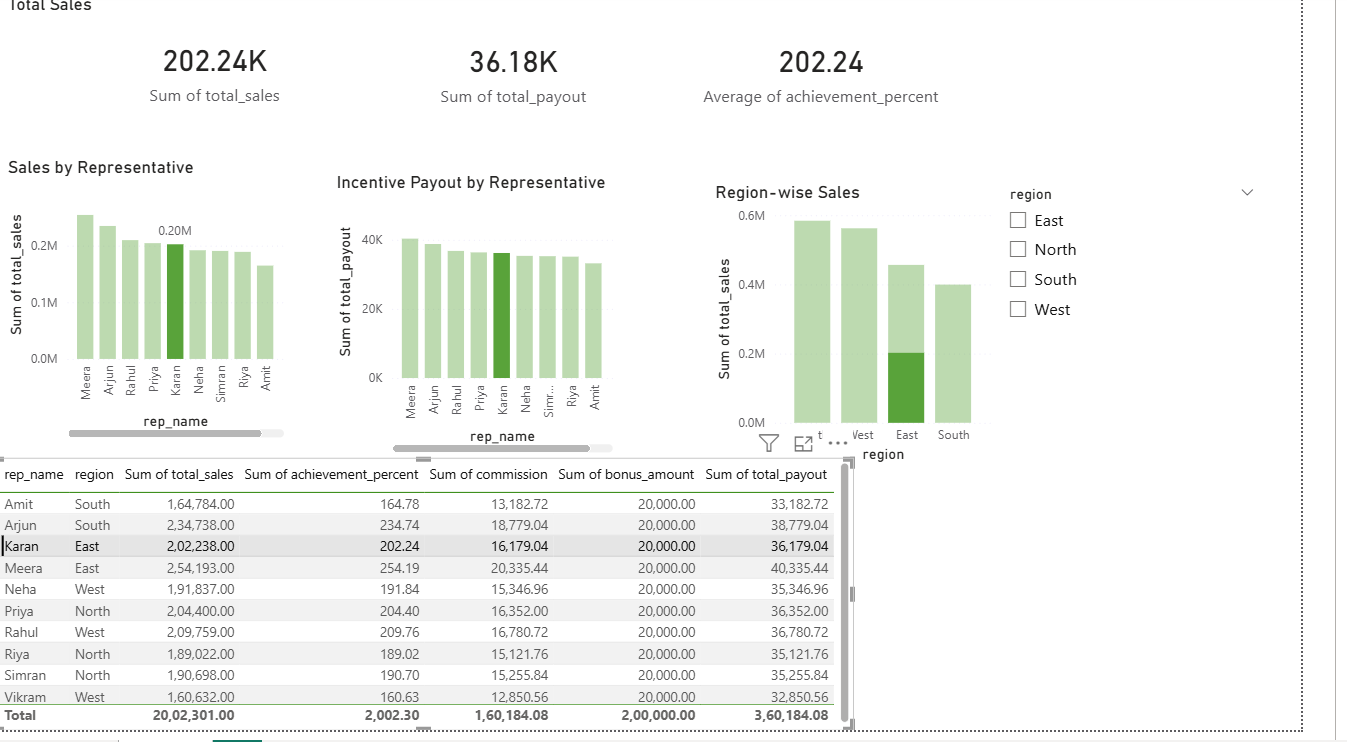

Layout of this report page (visuals, bound fields, positions):
{"tool":"powerbi","page":{"name":"Page 1","canvas":[1280,720],"ordinal":0},"visuals":[{"type":"card","title":"Total Sales","fields":{"Values":["Sum(compensation_system final_compensation_report.total_sales)"]},"box":[9.8,0,414.5,129.6],"z":0},{"type":"card","fields":{"Values":["Sum(compensation_system final_compensation_report.total_payout)"]},"box":[379.1,0,260.5,150.4],"z":1000},{"type":"card","fields":{"Values":["Avg(compensation_system final_compensation_report.achievement_percent)"]},"box":[670.1,0,280,150.4],"z":2000},{"type":"clusteredColumnChart","title":"Sales by Representative","fields":{"Category":["compensation_system final_compensation_report.rep_name"],"Y":["Sum(compensation_system final_compensation_report.total_sales)"]},"box":[9.8,159,280,280],"z":3000},{"type":"clusteredColumnChart","title":"Incentive Payout by Representative","fields":{"Category":["compensation_system final_compensation_report.rep_name"],"Y":["Sum(compensation_system final_compensation_report.total_payout)"]},"box":[331.4,173.6,280,280],"z":4000},{"type":"clusteredColumnChart","title":"Region-wise Sales","fields":{"Category":["compensation_system final_compensation_report.region"],"Y":["Sum(compensation_system final_compensation_report.total_sales)"]},"box":[701.9,183.4,280,280],"z":5000},{"type":"tableEx","fields":{"Values":["compensation_system final_compensation_report.rep_name","compensation_system final_compensation_report.region","Sum(compensation_system final_compensation_report.total_sales)","Sum(compensation_system final_compensation_report.achievement_percent)","Sum(compensation_system final_compensation_report.commission)","Sum(compensation_system final_compensation_report.bonus_amount)","Sum(compensation_system final_compensation_report.total_payout)"]},"box":[0,453.7,842.5,266.6],"z":5001},{"type":"slicer","fields":{"Values":["compensation_system final_compensation_report.region"]},"box":[981.9,182.2,264.1,256.8],"z":5002}]}

Visuals, with their boxes in screenshot pixels (x1, y1, x2, y2), scaled from the page's 1280x720 canvas onto the 1347x742 screenshot:
"Total Sales" card: l=10, t=0, r=447, b=134
card - Sum(compensation_system final_compensation_report.total_payout): l=399, t=0, r=673, b=155
card - Avg(compensation_system final_compensation_report.achievement_percent): l=705, t=0, r=1000, b=155
"Sales by Representative" clusteredColumnChart: l=10, t=164, r=305, b=452
"Incentive Payout by Representative" clusteredColumnChart: l=349, t=179, r=643, b=467
"Region-wise Sales" clusteredColumnChart: l=739, t=189, r=1033, b=478
tableEx - compensation_system final_compensation_report.rep_name x compensation_system final_compensation_report.region: l=0, t=468, r=887, b=741
slicer - compensation_system final_compensation_report.region: l=1033, t=188, r=1311, b=452
